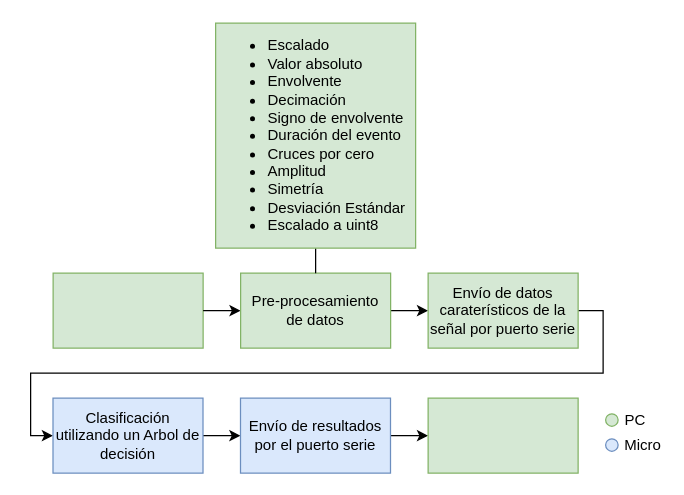
Image size: 684x495. Some labels were removed from this diagram. Each missing label, with the centre of its shape:
Carga de audios y etiquetas: (127,310)
Lectura y comparación de resultados: (502,435)
